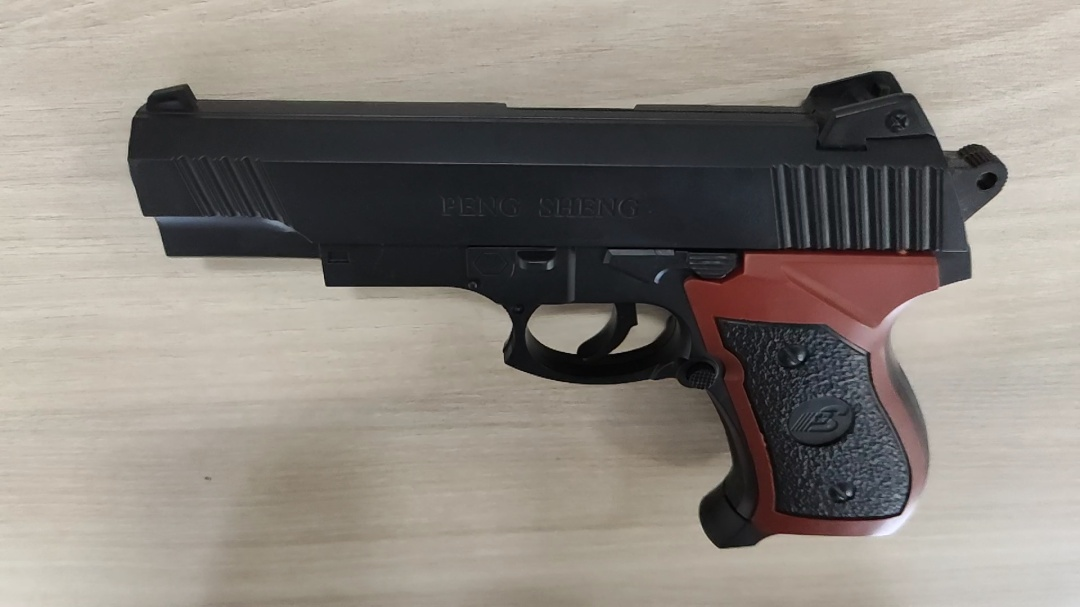gun: (202, 178, 686, 472)
